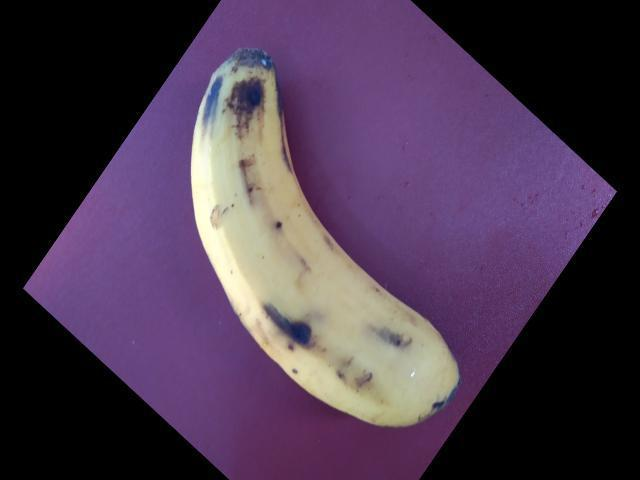ripe: (178, 34, 471, 442)
